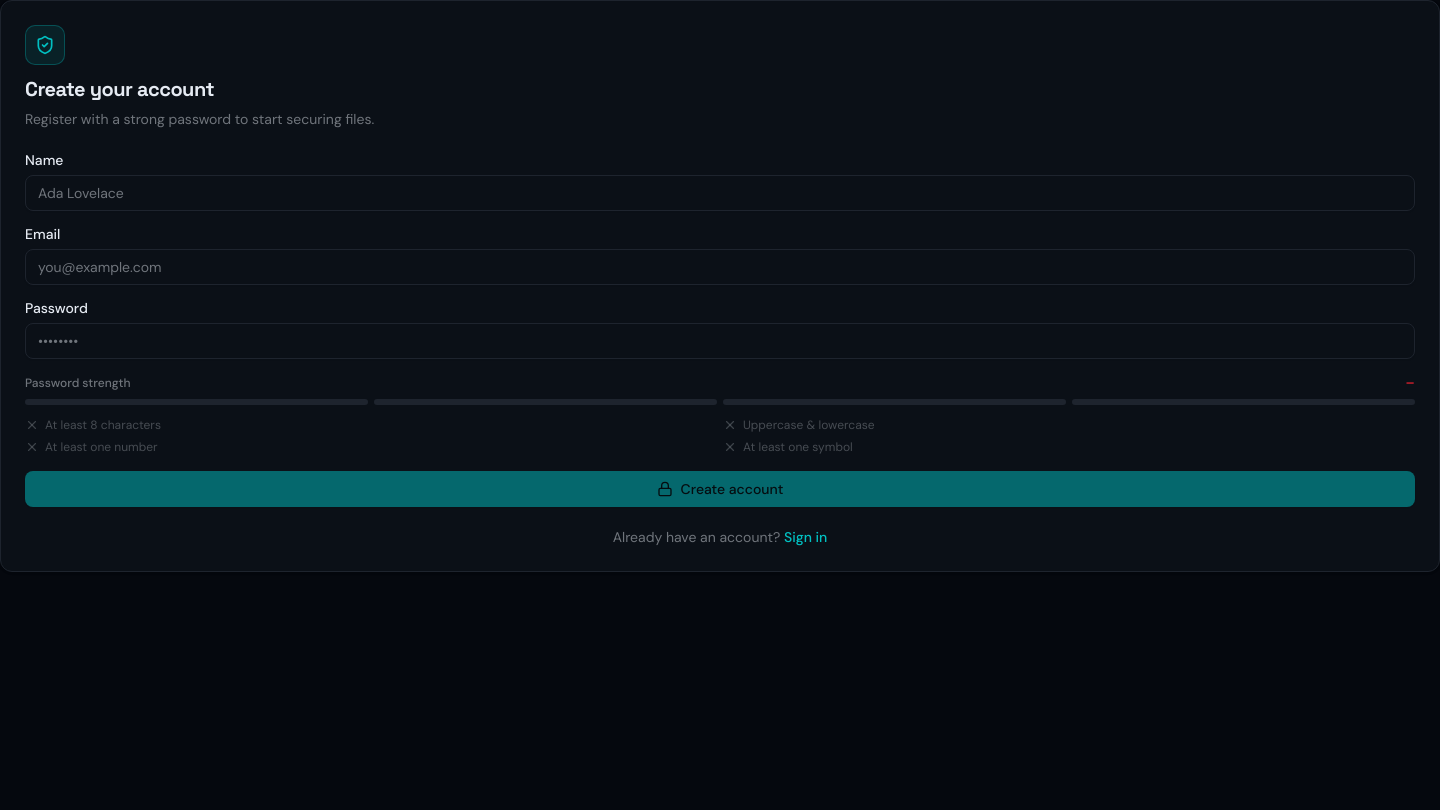
Test: RegisterPage › shows an error when registration fails
Type "Alice" into the field with test id "register.name_input".
click(720, 193); type("Alice")  # box x1=25 y1=175 x2=1415 y2=211
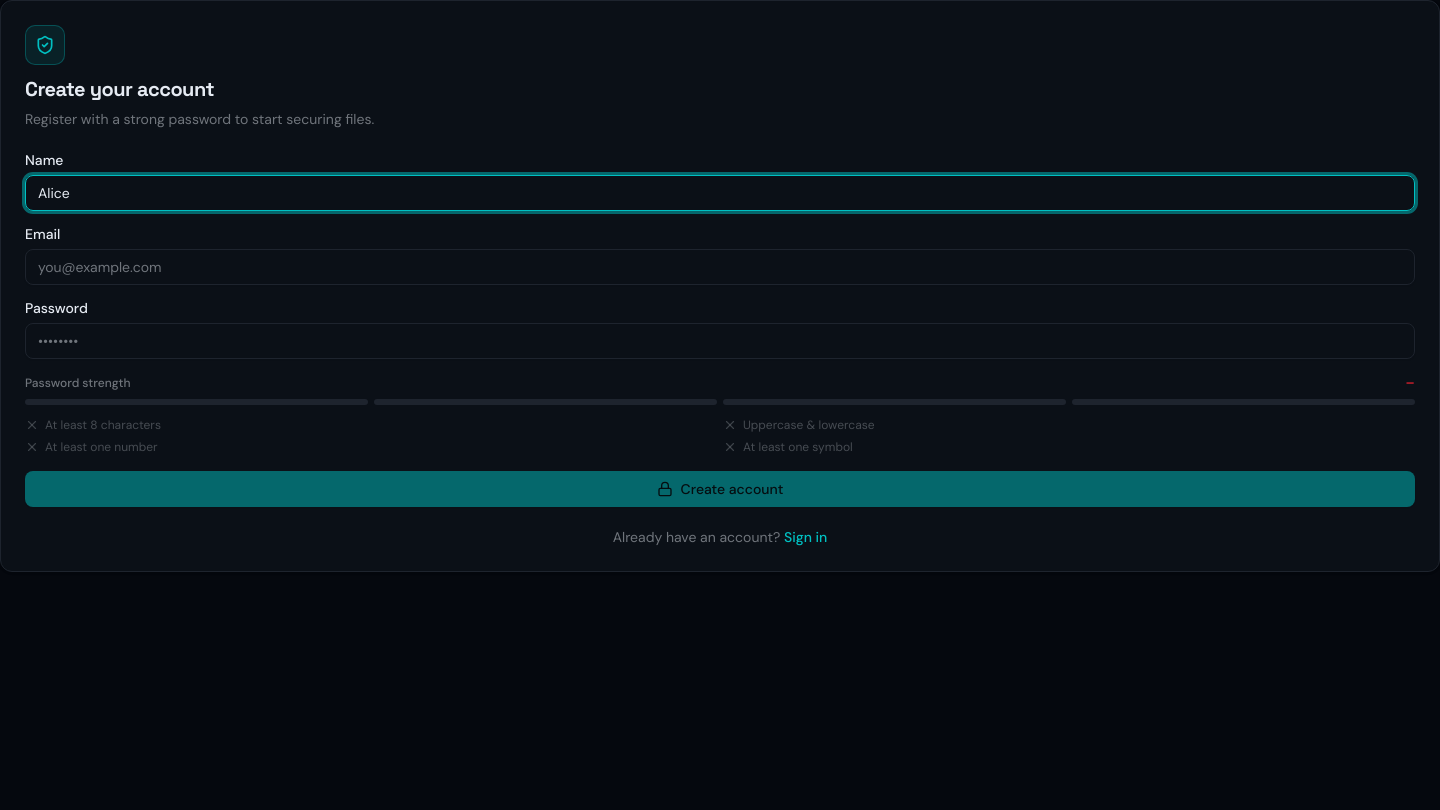
Type "alice@example.com" into the field with test id "register.email_input".
click(720, 267); type("alice@example.com")  # box x1=25 y1=249 x2=1415 y2=285
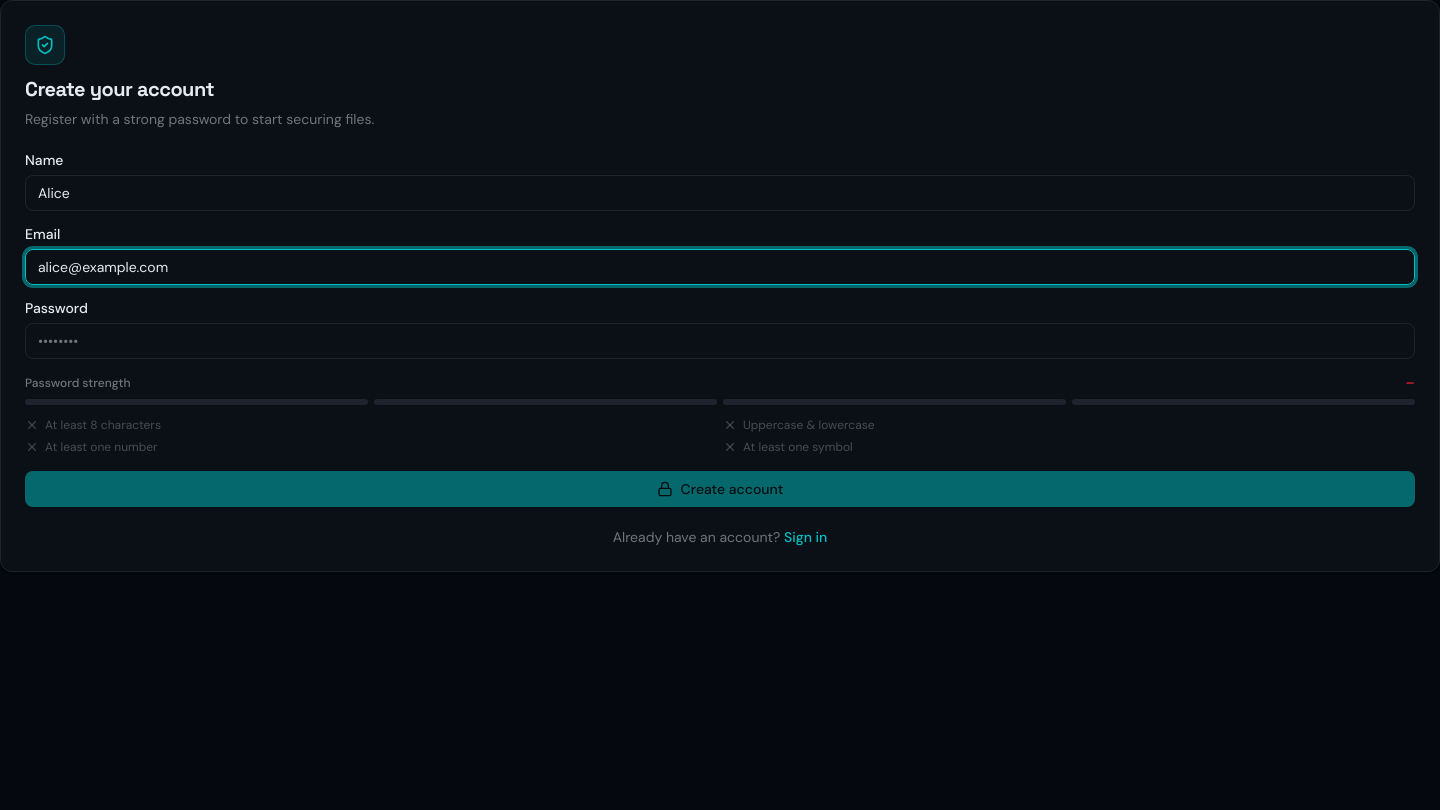
Type "Str0ng!Pass" into the password field with test id "register.password_input".
click(720, 341); type("Str0ng!Pass")  # box x1=25 y1=323 x2=1415 y2=359
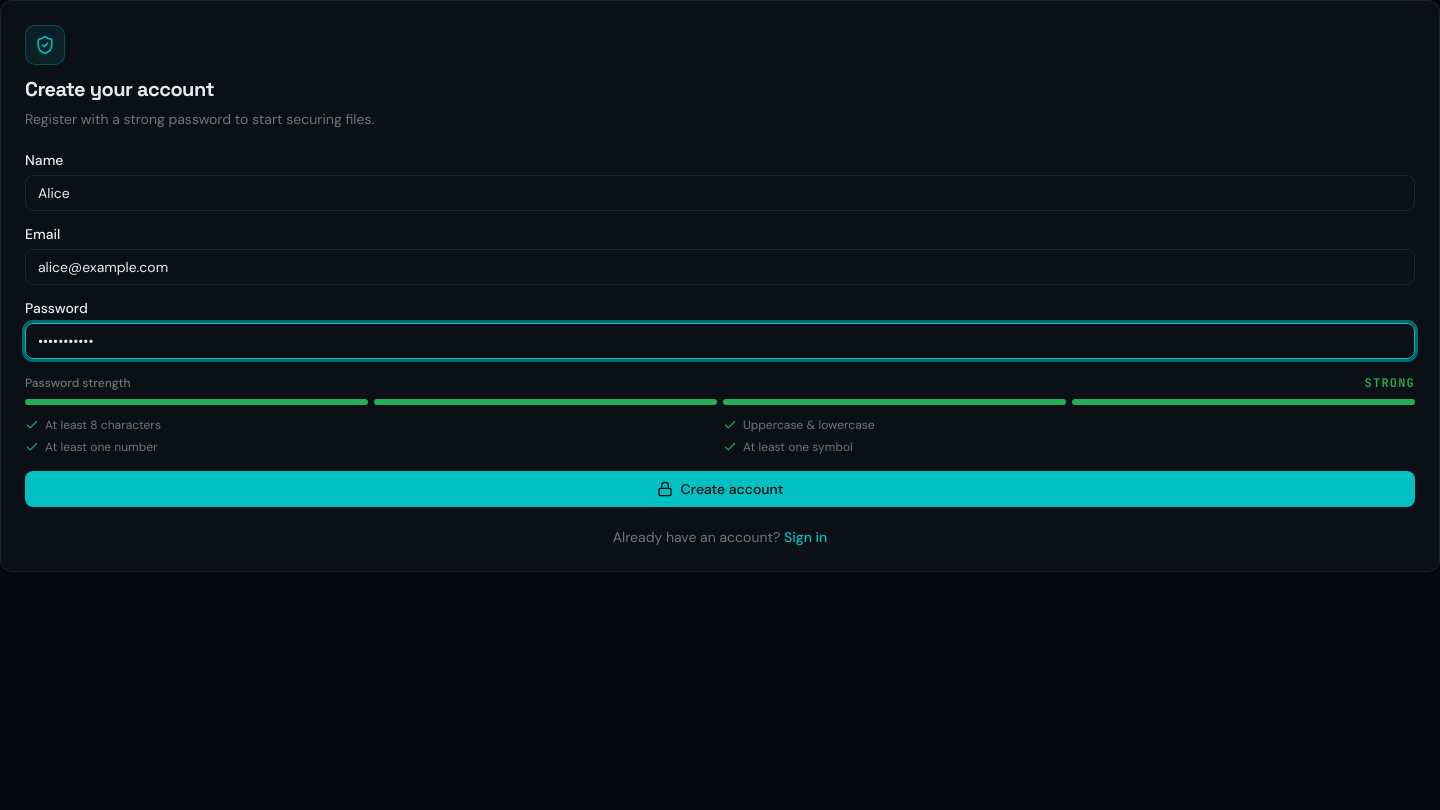
Click the button with test id "register.submit_button".
click(720, 489)  # box x1=25 y1=471 x2=1415 y2=507
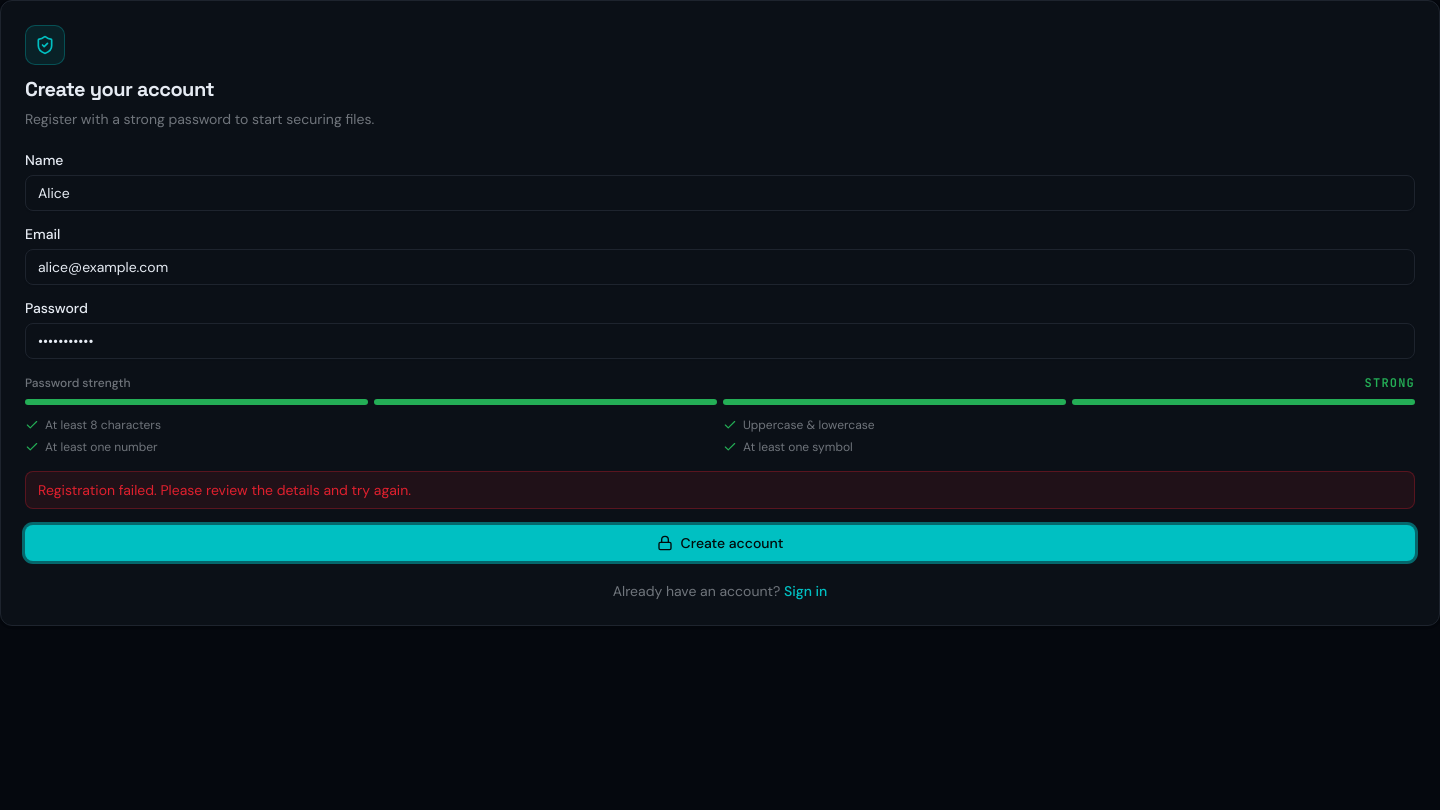
Check: the message shows "Registration failed", box x1=38 y1=481 x2=411 y2=499
